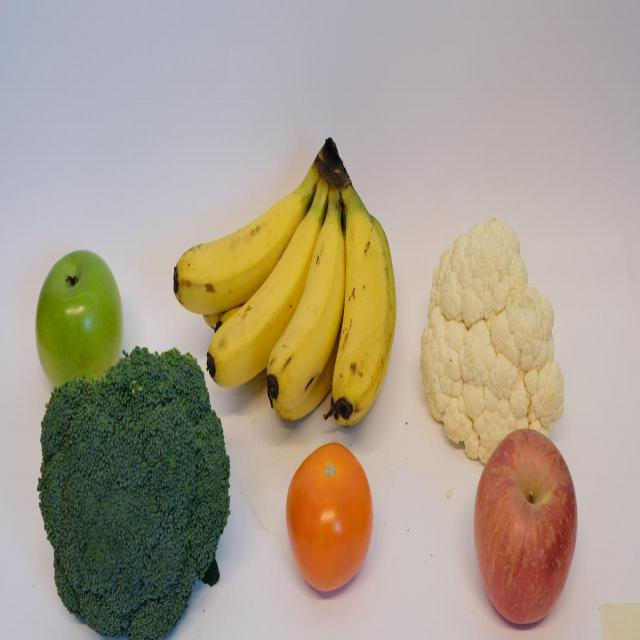apple: (471, 417, 582, 639), (32, 232, 124, 397)
banana: (204, 203, 321, 387), (262, 210, 354, 410), (168, 191, 312, 315), (327, 197, 396, 431)
broccoli: (29, 339, 243, 638)
cauliflower: (415, 200, 572, 472)
tomato: (282, 412, 378, 601)
